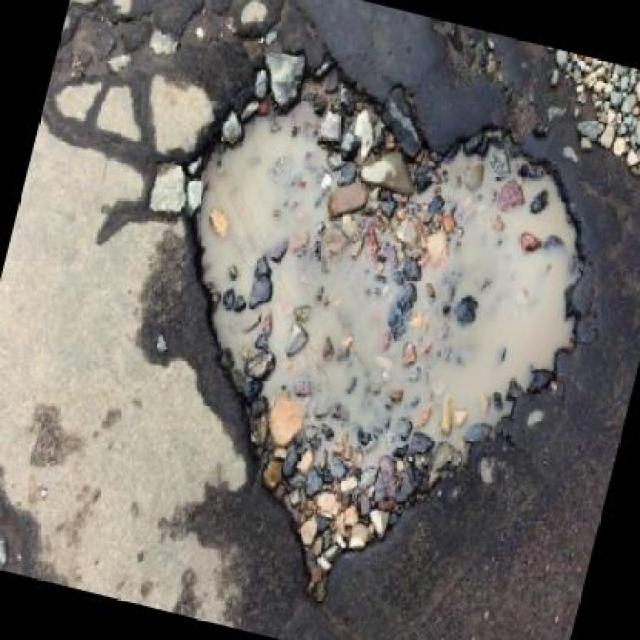pothole1: (89, 21, 634, 638)
